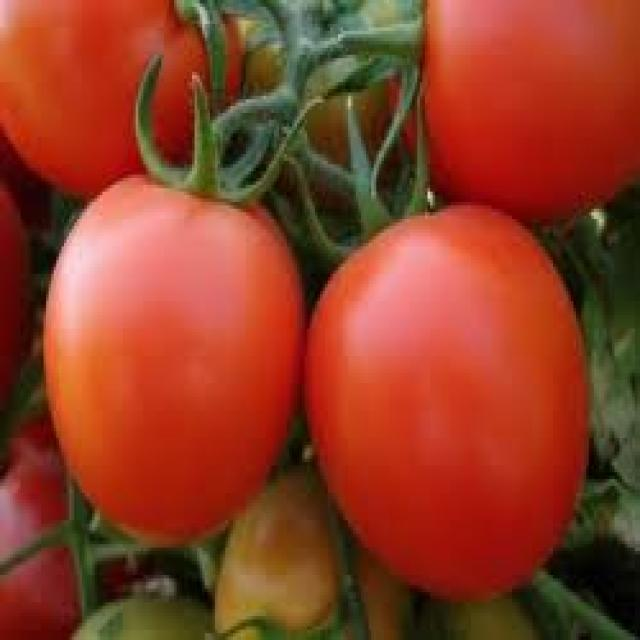Fresh_tomato: (302, 224, 590, 585), (52, 175, 296, 524), (420, 4, 640, 212), (0, 0, 257, 166)
